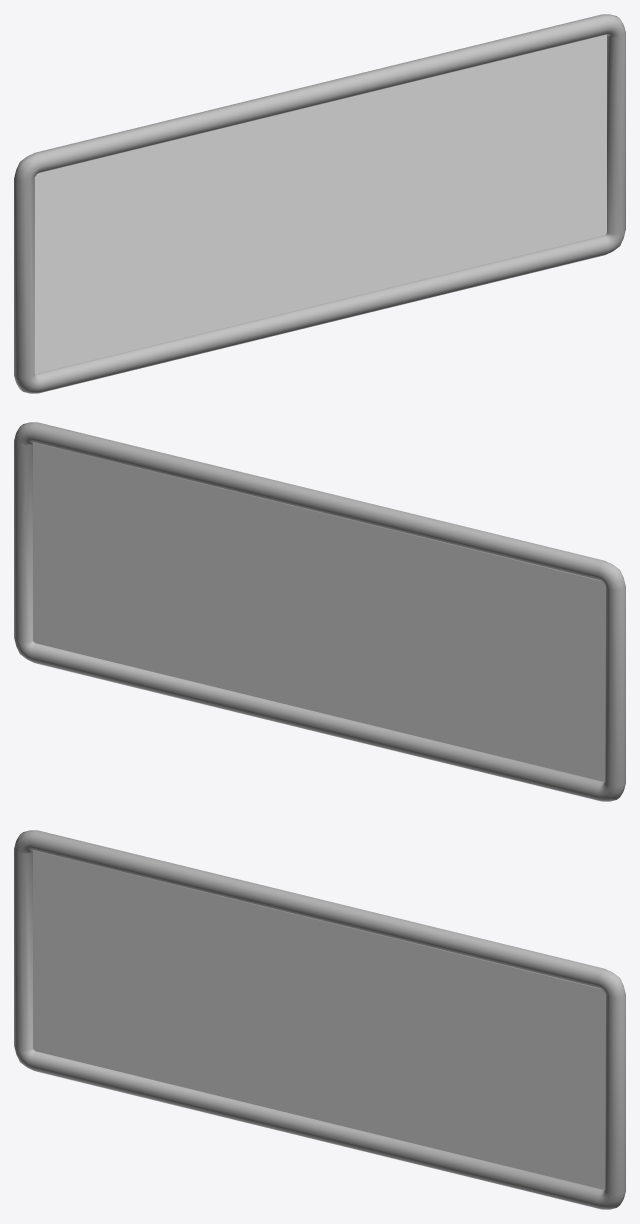
File: Neon_yoko_yoghourt.fbx
3 renders of one model, top to bottom at view 1: azimuth 30°, elevation 25°; view 2: azimuth 150°, elevation 25°; view 3: azimuth 330°, elevation 25°, orthographic.
Visible parts, largest first — view 1: Neon_Yoko_yoghourt; view 2: Neon_Yoko_yoghourt; view 3: Neon_Yoko_yoghourt.
Part boxes in pixels (box(x1,y1,x2,y2)): Neon_Yoko_yoghourt: box(14, 14, 625, 393); Neon_Yoko_yoghourt: box(14, 422, 625, 801); Neon_Yoko_yoghourt: box(14, 830, 625, 1209).
Size of the model in its own units: 1.04 by 0.0313 by 0.3909.
